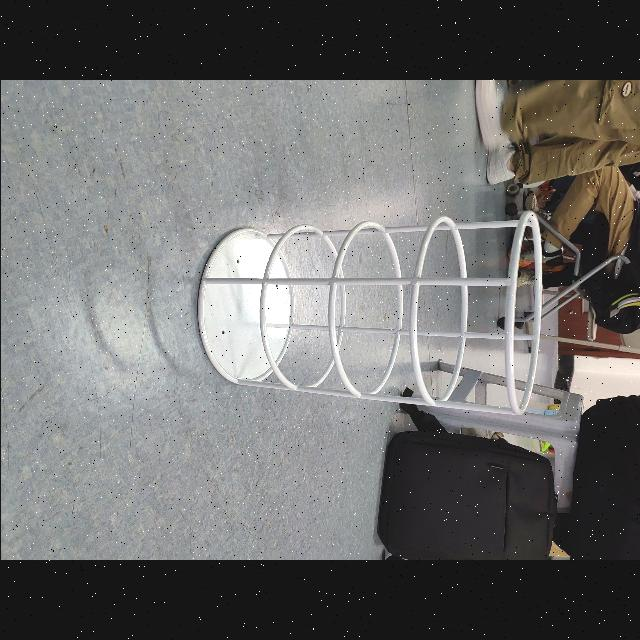S: (196, 206, 548, 416)
